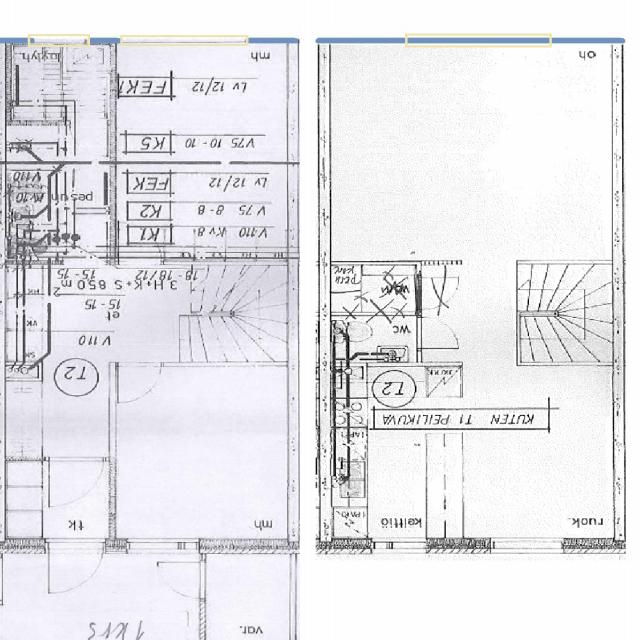door: (49, 538, 102, 599), (49, 456, 102, 506), (63, 222, 107, 264), (119, 222, 162, 264), (118, 361, 162, 402), (157, 562, 207, 598), (70, 120, 108, 156), (416, 317, 458, 348)
